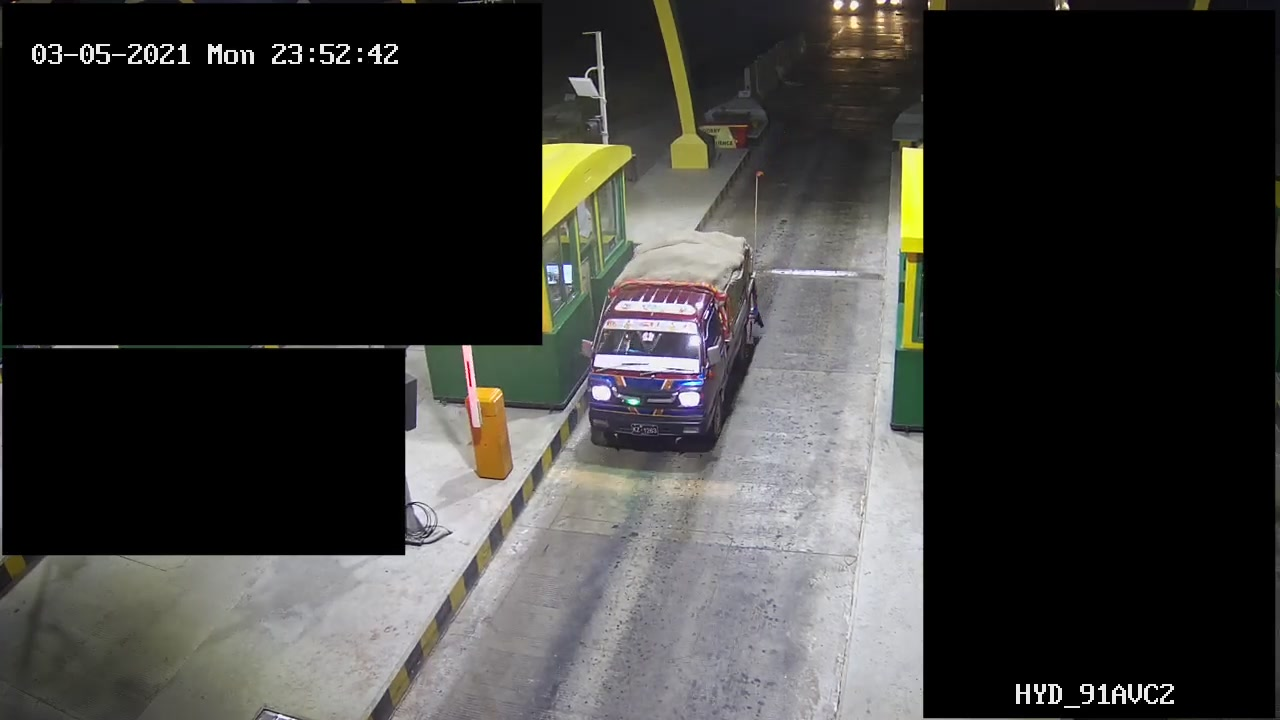F1: (581, 217, 768, 469)
